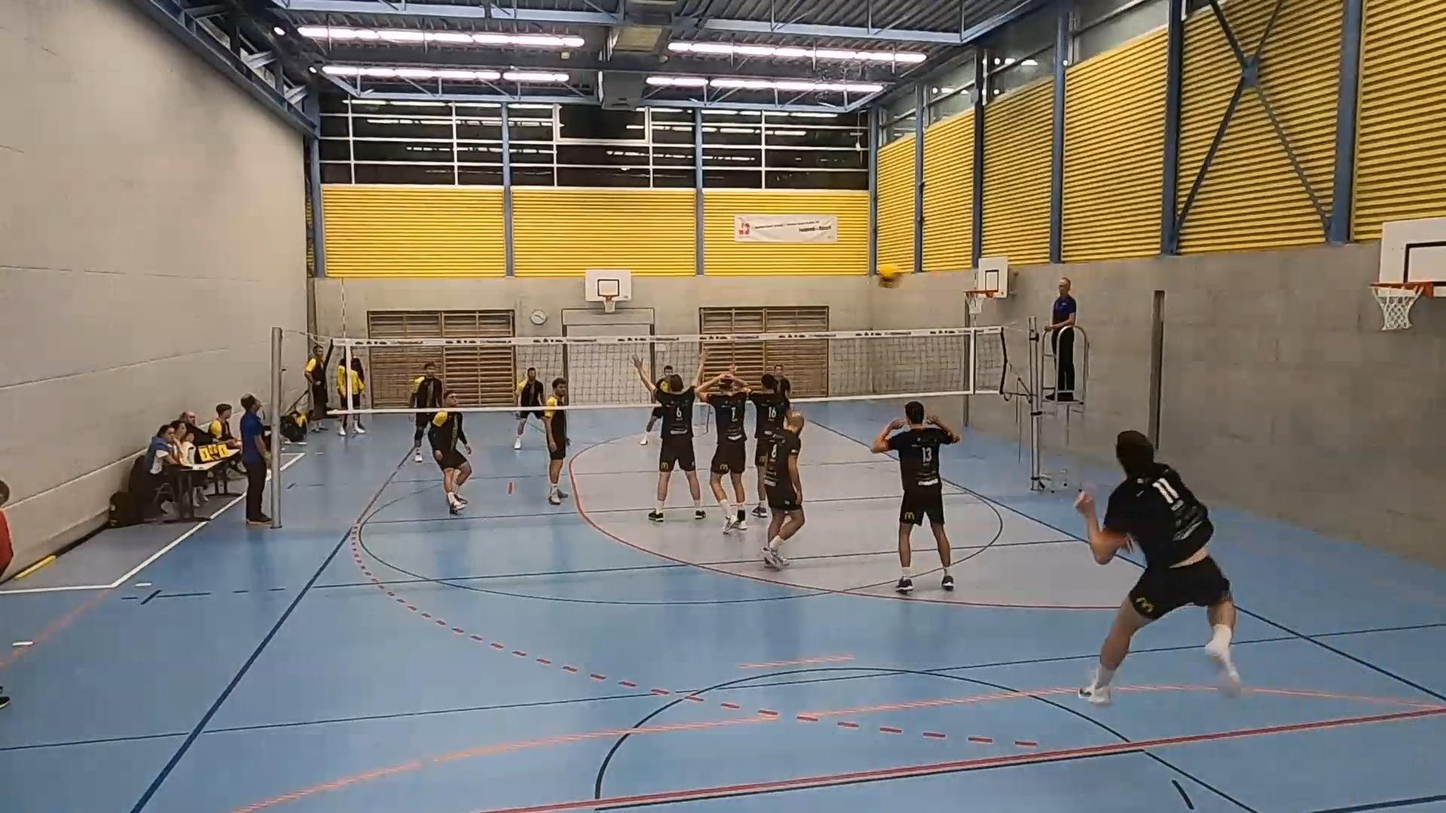Player: (871, 400, 959, 593), (633, 356, 706, 522), (698, 370, 749, 532), (762, 410, 804, 568), (749, 373, 789, 516), (429, 390, 471, 514), (409, 362, 444, 462), (542, 377, 569, 504), (513, 367, 543, 449), (640, 406, 663, 444), (771, 364, 791, 397)
Serve: (1085, 423, 1236, 707)
ball: (875, 264, 903, 285)
